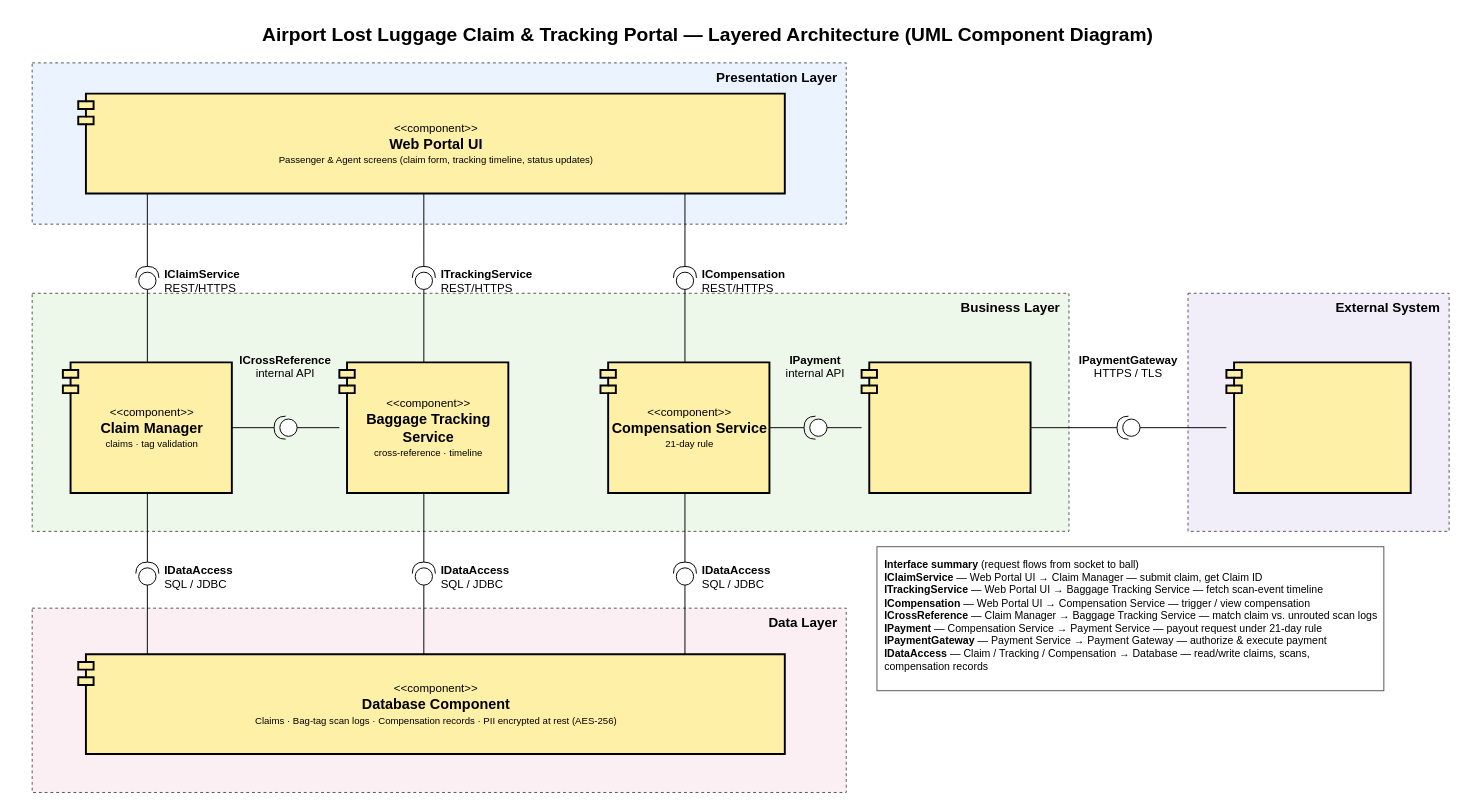
This 1466x809 diagram has some shape labels left out. The shapes that lost their labels are listed below. From the top down, each one's centre as x and y in pixels, then its label:
point 945,427: <<component>> Payment Service payout requests
point 1318,427: <<component>> Payment Gateway 3rd-party payout API
